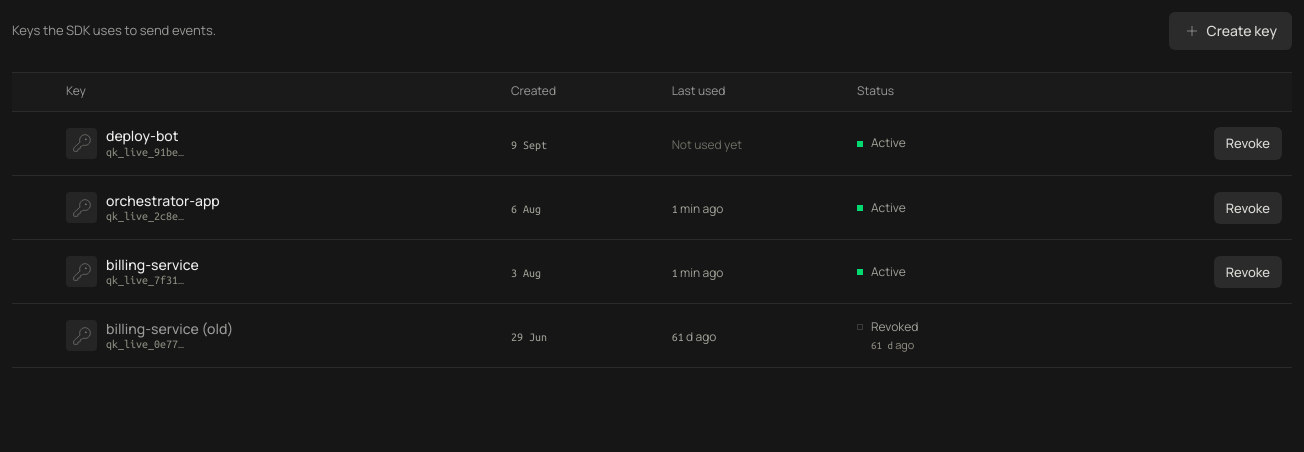
Test case: KeysPanel › says the key could not be revoked when the server cannot be reached, and clears that after a revoke works
Click the button with aria-label "Revoke key deploy-bot": (1248, 143) x1=1214 y1=127 x2=1282 y2=160
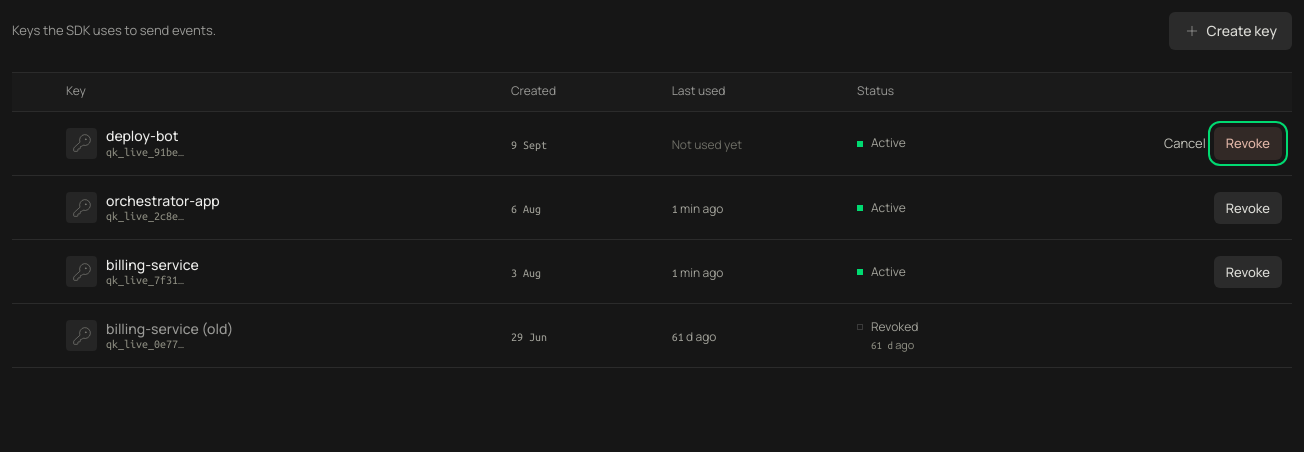
Click the button "Revoke" in the row of "deploy-bot": (1248, 143) x1=1214 y1=127 x2=1282 y2=160
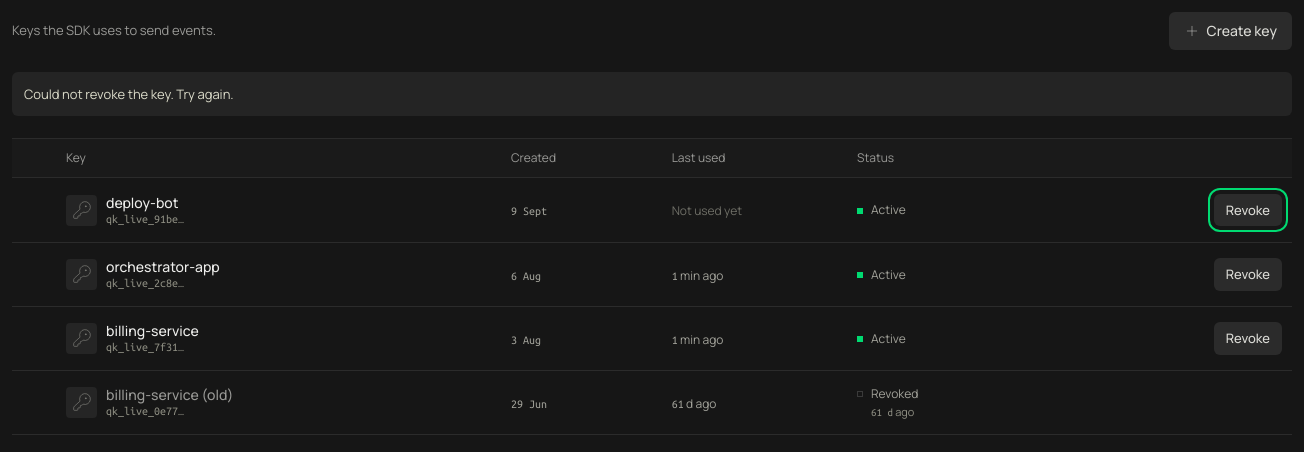
Check: the message reads "Could not revoke the key. Try again.", box x1=24 y1=85 x2=234 y2=103
Click the button with aria-label "Revoke key deploy-bot": (1248, 210) x1=1214 y1=194 x2=1282 y2=226
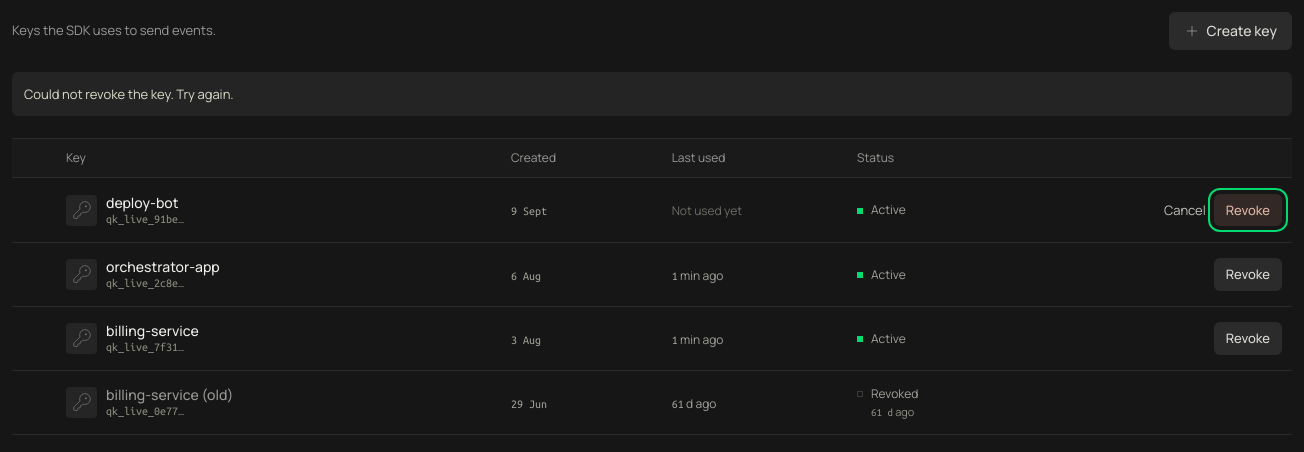
Click the button "Revoke" in the row of "deploy-bot": (1248, 210) x1=1214 y1=194 x2=1282 y2=226
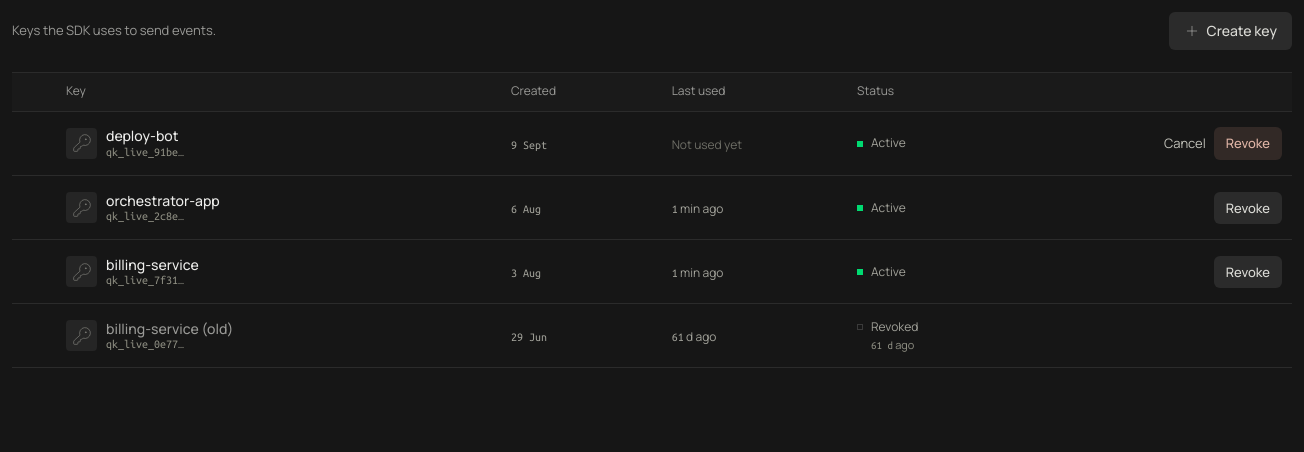
Check: the message "Could not revoke the key. Try again." is gone
